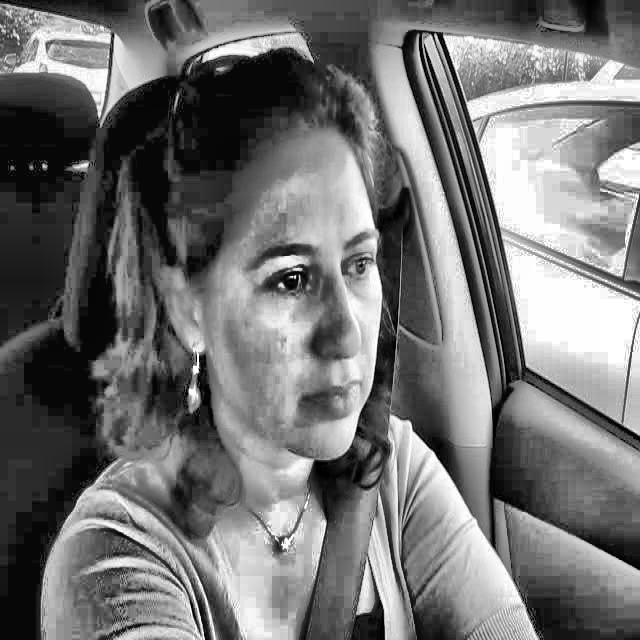closed_mouth: (290, 370, 382, 433)
open_eyes: (243, 254, 320, 305), (335, 244, 385, 285)
